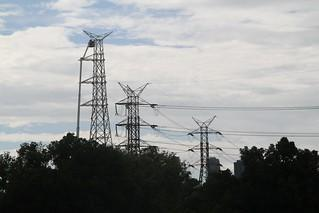power_tower: (66, 29, 115, 149), (114, 76, 153, 158), (183, 111, 224, 175)
